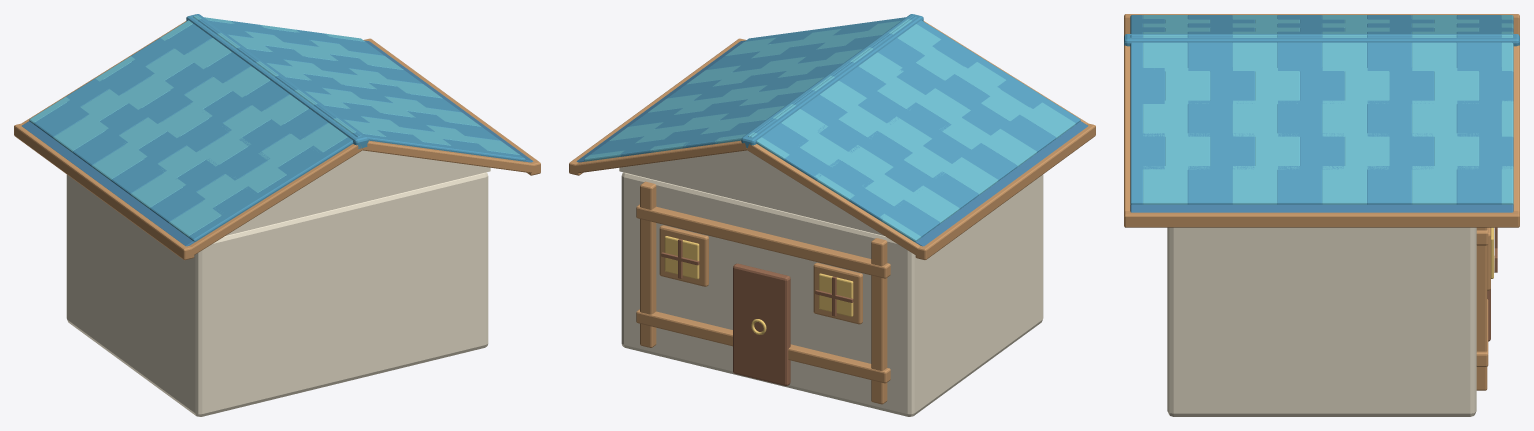
File: house_fantasy.glb
3 views of the same model, side by side, from view 1: azimuth 30°, elevation 25°; view 2: azimuth 150°, elevation 25°; view 3: azimuth 270°, elevation 25° (orthographic). The views are drawn at different scales.
Parts seen in each view (by area): view 1: House_Wall, House_Gable_Fill, House_Eave_Fascia, House_Gable_Fascia.001, House_Gable_Fascia.003, House_Ridge_Cap, House_Roof_Slope, House_Roof_Tile_-1_41, House_Roof_Tile_-1_43, House_Roof_Tile_-1_44, House_Roof_Tile_-1_46, House_Roof_Tile_-1_42 (+39 smaller); view 2: House_Wall, House_Gable_Fill, House_Door, House_HorizontalBeam.001, House_HorizontalBeam, House_Eave_Fascia, House_VerticalBeam.001, House_VerticalBeam, House_Gable_Fascia, House_Gable_Fascia.002, House_Roof_Slope, House_Ridge_Cap (+48 smaller); view 3: House_Wall, House_Eave_Fascia.001, House_Roof_Slope.001, House_Ridge_Cap, House_Roof_Tile_1_41, House_Roof_Tile_1_46, House_Roof_Tile_1_45, House_Roof_Tile_1_47, House_Roof_Tile_1_43, House_Roof_Tile_1_44, House_Roof_Tile_1_42, House_Roof_Tile_1_48 (+44 smaller).
Boxes of the visible parts, x1,y1,x2,y2 form: House_Wall: (66, 172, 488, 416); House_Gable_Fill: (226, 150, 490, 235); House_Eave_Fascia: (14, 123, 194, 259); House_Gable_Fascia.001: (189, 144, 362, 254); House_Gable_Fascia.003: (362, 140, 535, 172); House_Ridge_Cap: (186, 14, 368, 148); House_Roof_Slope: (22, 121, 194, 246); House_Roof_Tile_-1_41: (34, 100, 88, 138); House_Roof_Tile_-1_43: (72, 128, 127, 166); House_Roof_Tile_-1_44: (92, 143, 147, 180); House_Roof_Tile_-1_46: (130, 171, 185, 209); House_Roof_Tile_-1_42: (53, 114, 108, 152); House_Wall: (621, 172, 1043, 416); House_Gable_Fill: (619, 150, 883, 235); House_Door: (733, 263, 790, 385); House_HorizontalBeam.001: (636, 204, 890, 278); House_HorizontalBeam: (636, 309, 890, 383); House_Eave_Fascia: (915, 123, 1095, 259); House_VerticalBeam.001: (640, 181, 656, 347); House_VerticalBeam: (871, 238, 887, 404); House_Gable_Fascia: (747, 144, 920, 255); House_Gable_Fascia.002: (574, 140, 747, 172); House_Roof_Slope: (915, 121, 1087, 246); House_Ridge_Cap: (741, 14, 923, 148); House_Wall: (1167, 227, 1476, 416); House_Eave_Fascia.001: (1124, 211, 1519, 227); House_Roof_Slope.001: (1130, 204, 1513, 212); House_Ridge_Cap: (1124, 34, 1519, 46); House_Roof_Tile_1_41: (1456, 166, 1501, 204); House_Roof_Tile_1_46: (1232, 166, 1277, 204); House_Roof_Tile_1_45: (1277, 166, 1322, 204); House_Roof_Tile_1_47: (1187, 166, 1232, 204); House_Roof_Tile_1_43: (1367, 166, 1411, 204); House_Roof_Tile_1_44: (1322, 166, 1366, 204); House_Roof_Tile_1_42: (1412, 166, 1456, 204); House_Roof_Tile_1_48: (1143, 166, 1187, 204).
Size of the model in its own units: 9.28 by 6.45 by 7.68.
